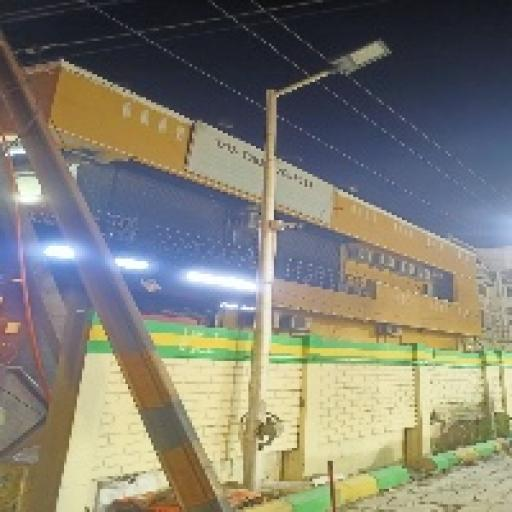Not Working: (310, 33, 401, 84)
